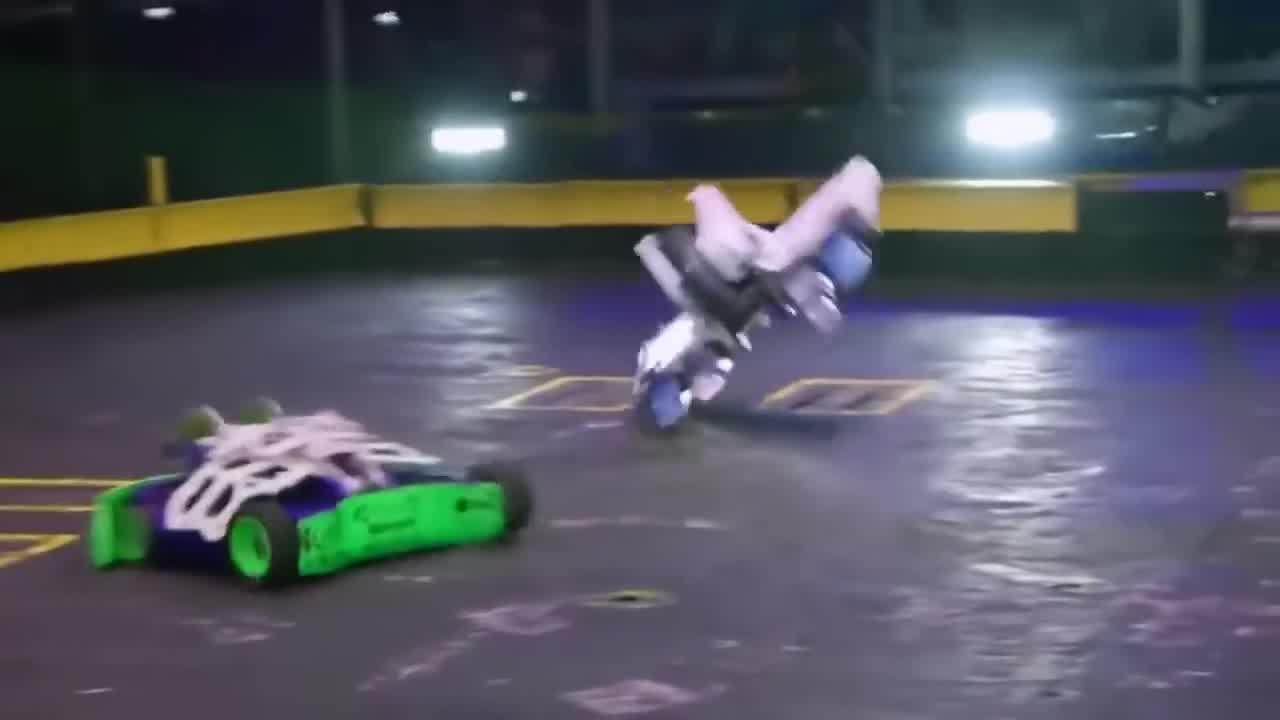combatbot: (85, 392, 539, 591), (626, 149, 886, 437)
